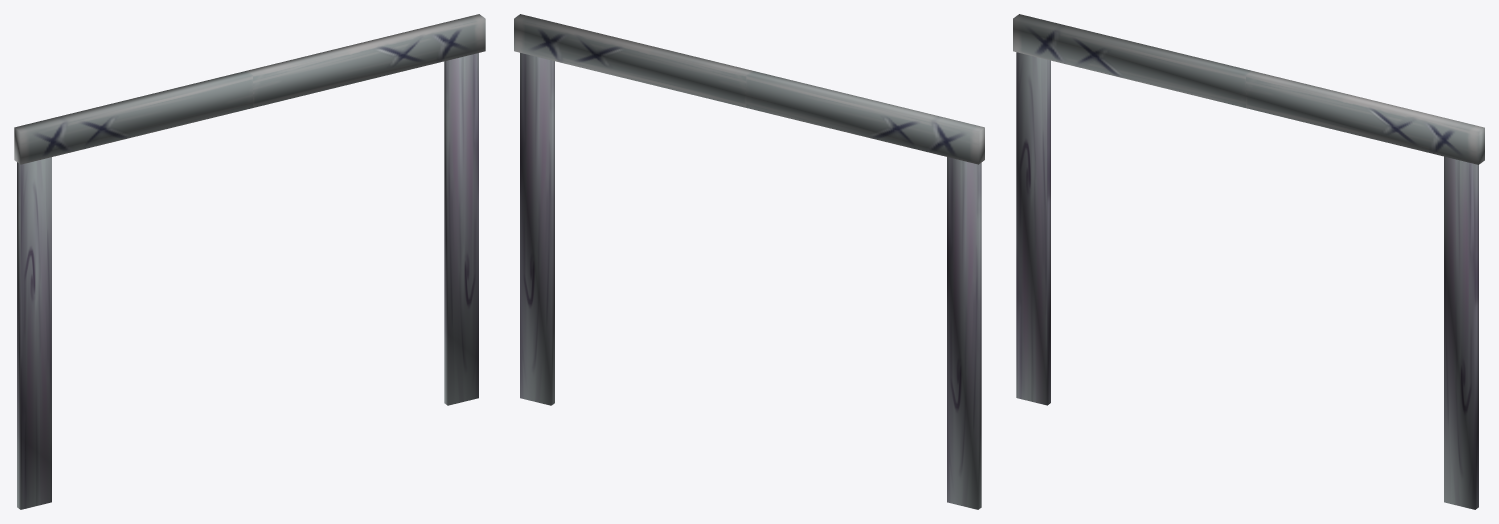
The model's file is Frame.fbx.
3 views of the same model, side by side, from view 1: azimuth 30°, elevation 25°; view 2: azimuth 150°, elevation 25°; view 3: azimuth 330°, elevation 25° (orthographic).
Parts seen in each view (by area): view 1: Frame; view 2: Frame; view 3: Frame.
Part boxes in pixels (x1=…): Frame: x1=14, y1=14, x2=485, y2=509; Frame: x1=514, y1=14, x2=984, y2=509; Frame: x1=1013, y1=14, x2=1484, y2=509.
Size of the model in its own units: 626 by 14.69 by 488.
